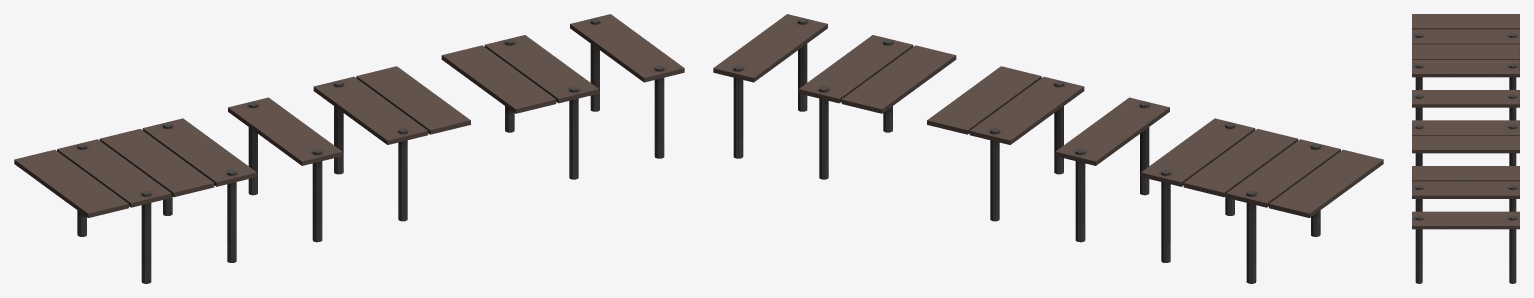
The model's file is B_boat_landing.glb.
3 renders of one model, left to right at view 1: azimuth 30°, elevation 25°; view 2: azimuth 150°, elevation 25°; view 3: azimuth 270°, elevation 25°, orthographic. The views are drawn at different scales.
Parts seen in each view (by area): view 1: Cube; view 2: Cube; view 3: Cube.
Part boxes in pixels (box(x1,y1,x2,y2)): Cube: box(14, 14, 684, 283); Cube: box(713, 14, 1383, 283); Cube: box(1412, 14, 1519, 283).
Size of the model in its own units: 27.9 by 4 by 6.
Materials: 1 (1 with a texture image).
